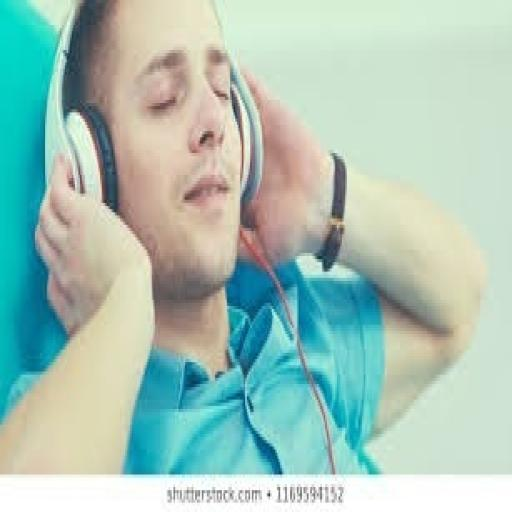listening_to_music: (2, 0, 487, 475)
